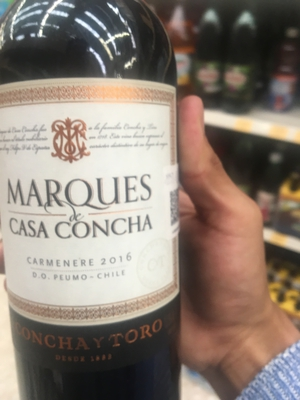marques de casa concha carmenere: (2, 8, 196, 400)
